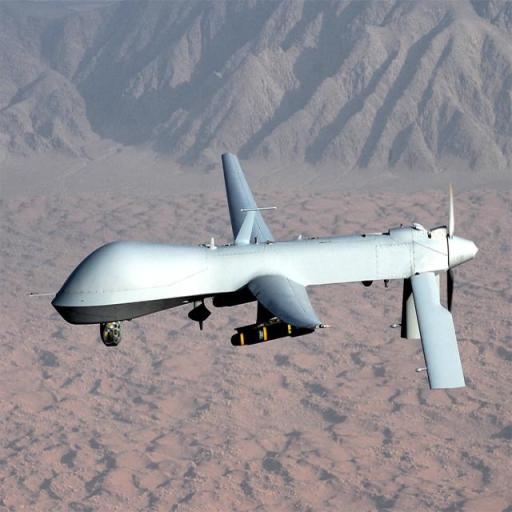uav: (46, 150, 480, 403)
